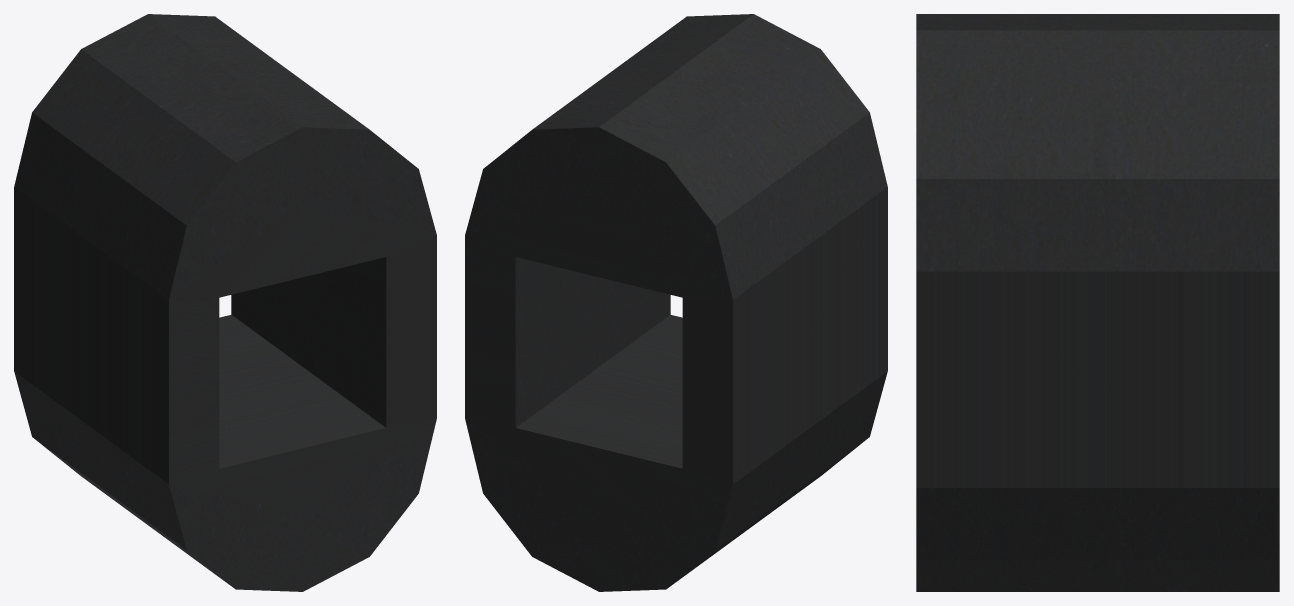
Rendered from Magazine_Catch_Button.dae.
3 views of the same model, side by side, from view 1: azimuth 30°, elevation 25°; view 2: azimuth 150°, elevation 25°; view 3: azimuth 270°, elevation 25° (orthographic). The views are drawn at different scales.
Parts seen in each view (by area): view 1: Magazine_Catch_Button; view 2: Magazine_Catch_Button; view 3: Magazine_Catch_Button.
Part boxes in pixels (left/top/right/bottom): Magazine_Catch_Button: left=14, top=14, right=436, bottom=591; Magazine_Catch_Button: left=465, top=14, right=887, bottom=591; Magazine_Catch_Button: left=916, top=14, right=1279, bottom=591.
Bounding box in the file's own units: 0.00741 × 0.00741 × 0.0123.
Materials: 1 (1 with a texture image).
